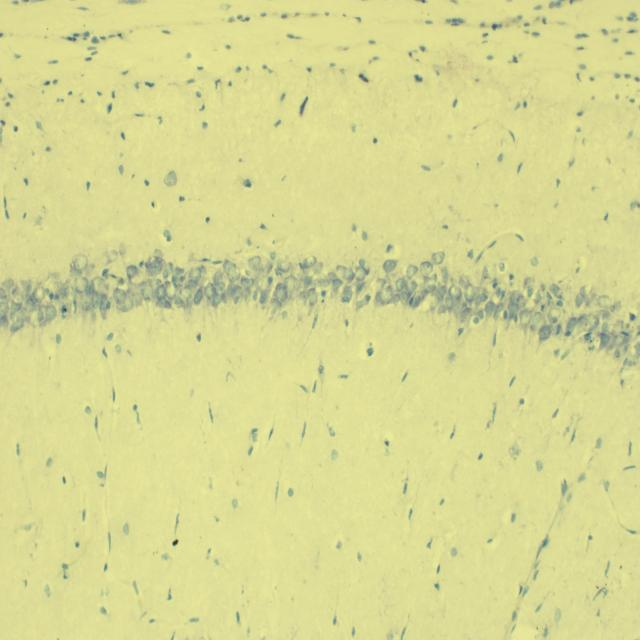neuron: (578, 313, 600, 332), (147, 256, 166, 277), (223, 260, 240, 282), (28, 305, 44, 328), (71, 253, 88, 270), (379, 285, 394, 304), (579, 285, 596, 301), (482, 261, 497, 279), (274, 283, 288, 302), (255, 276, 274, 290), (459, 306, 472, 326), (258, 255, 270, 275), (453, 302, 467, 319), (548, 307, 562, 324), (530, 311, 542, 330), (99, 295, 108, 320), (597, 294, 612, 309), (102, 250, 118, 264), (448, 284, 462, 300), (92, 277, 105, 294), (423, 276, 436, 293), (484, 301, 495, 321), (34, 286, 46, 304), (464, 284, 476, 302), (493, 302, 505, 320), (23, 280, 38, 294), (614, 344, 629, 358), (75, 276, 88, 292), (165, 283, 178, 299), (420, 261, 433, 277), (204, 282, 216, 299), (12, 294, 23, 312), (520, 309, 531, 327), (10, 318, 24, 332), (277, 258, 291, 272), (113, 288, 126, 303), (611, 322, 624, 337), (17, 312, 29, 328), (565, 316, 577, 332), (307, 288, 318, 305), (406, 278, 417, 295), (508, 302, 519, 319), (248, 256, 261, 270), (303, 255, 317, 268), (538, 325, 551, 339), (431, 251, 445, 264), (163, 262, 173, 280), (285, 276, 295, 294), (296, 293, 306, 311), (374, 291, 384, 309), (473, 293, 488, 305), (410, 294, 421, 310), (429, 294, 440, 310), (241, 276, 254, 289), (383, 260, 397, 272), (508, 290, 520, 304), (83, 296, 94, 311), (622, 329, 633, 344), (0, 315, 9, 333), (233, 286, 242, 304), (46, 305, 56, 321), (84, 279, 94, 295), (140, 282, 150, 298), (156, 284, 166, 300), (193, 289, 203, 305), (343, 285, 353, 301), (2, 279, 14, 292), (148, 278, 161, 290), (189, 267, 201, 280), (354, 267, 366, 280), (406, 265, 418, 278), (126, 264, 137, 278), (175, 294, 186, 308), (446, 294, 454, 313), (228, 281, 238, 296), (516, 294, 526, 309), (65, 285, 74, 301), (134, 291, 143, 307), (180, 287, 192, 299), (610, 302, 622, 314), (269, 298, 282, 309), (343, 268, 354, 281), (395, 278, 406, 291), (523, 276, 534, 289), (211, 292, 221, 306), (258, 290, 268, 304), (318, 278, 332, 288), (332, 278, 342, 292), (460, 274, 470, 288), (70, 267, 82, 278), (173, 266, 184, 278), (336, 265, 347, 277), (199, 274, 210, 286), (123, 298, 133, 311), (550, 284, 560, 297), (441, 268, 449, 284), (156, 298, 170, 307), (214, 271, 223, 285), (391, 293, 400, 307), (399, 292, 408, 306), (615, 332, 624, 346), (0, 302, 10, 314), (327, 272, 339, 282), (532, 292, 542, 304), (630, 353, 640, 365), (54, 279, 63, 292), (186, 292, 194, 306), (376, 278, 386, 289), (436, 303, 446, 314), (527, 285, 537, 296), (152, 249, 164, 258), (242, 289, 251, 301), (24, 299, 32, 312), (50, 271, 60, 281), (116, 300, 126, 310), (311, 278, 321, 288), (419, 290, 429, 300), (303, 276, 312, 287), (313, 262, 322, 273), (6, 297, 14, 309), (12, 286, 20, 298), (602, 322, 610, 334), (634, 341, 640, 357), (498, 261, 506, 273), (494, 286, 502, 298), (438, 286, 447, 296), (530, 256, 539, 266), (576, 293, 582, 307), (188, 280, 198, 288), (183, 305, 191, 315), (217, 282, 225, 292), (92, 299, 99, 310), (0, 287, 6, 299), (252, 289, 258, 301), (269, 251, 277, 260), (20, 307, 27, 317), (10, 311, 17, 321), (364, 261, 369, 274), (358, 259, 366, 267)
